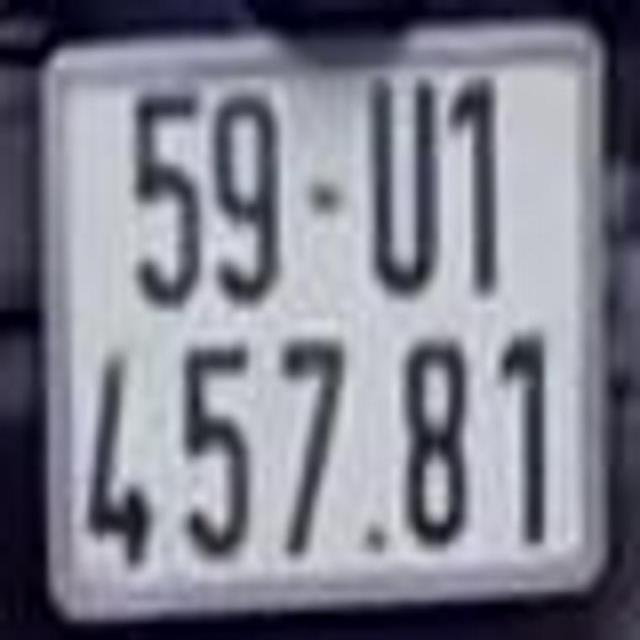1: (499, 330, 558, 544), (450, 73, 506, 296)
4: (84, 348, 152, 564)
5: (178, 343, 248, 556), (129, 92, 200, 298)
7: (273, 338, 346, 553)
8: (405, 336, 470, 543)
9: (208, 97, 286, 305)
U: (364, 73, 442, 289)
